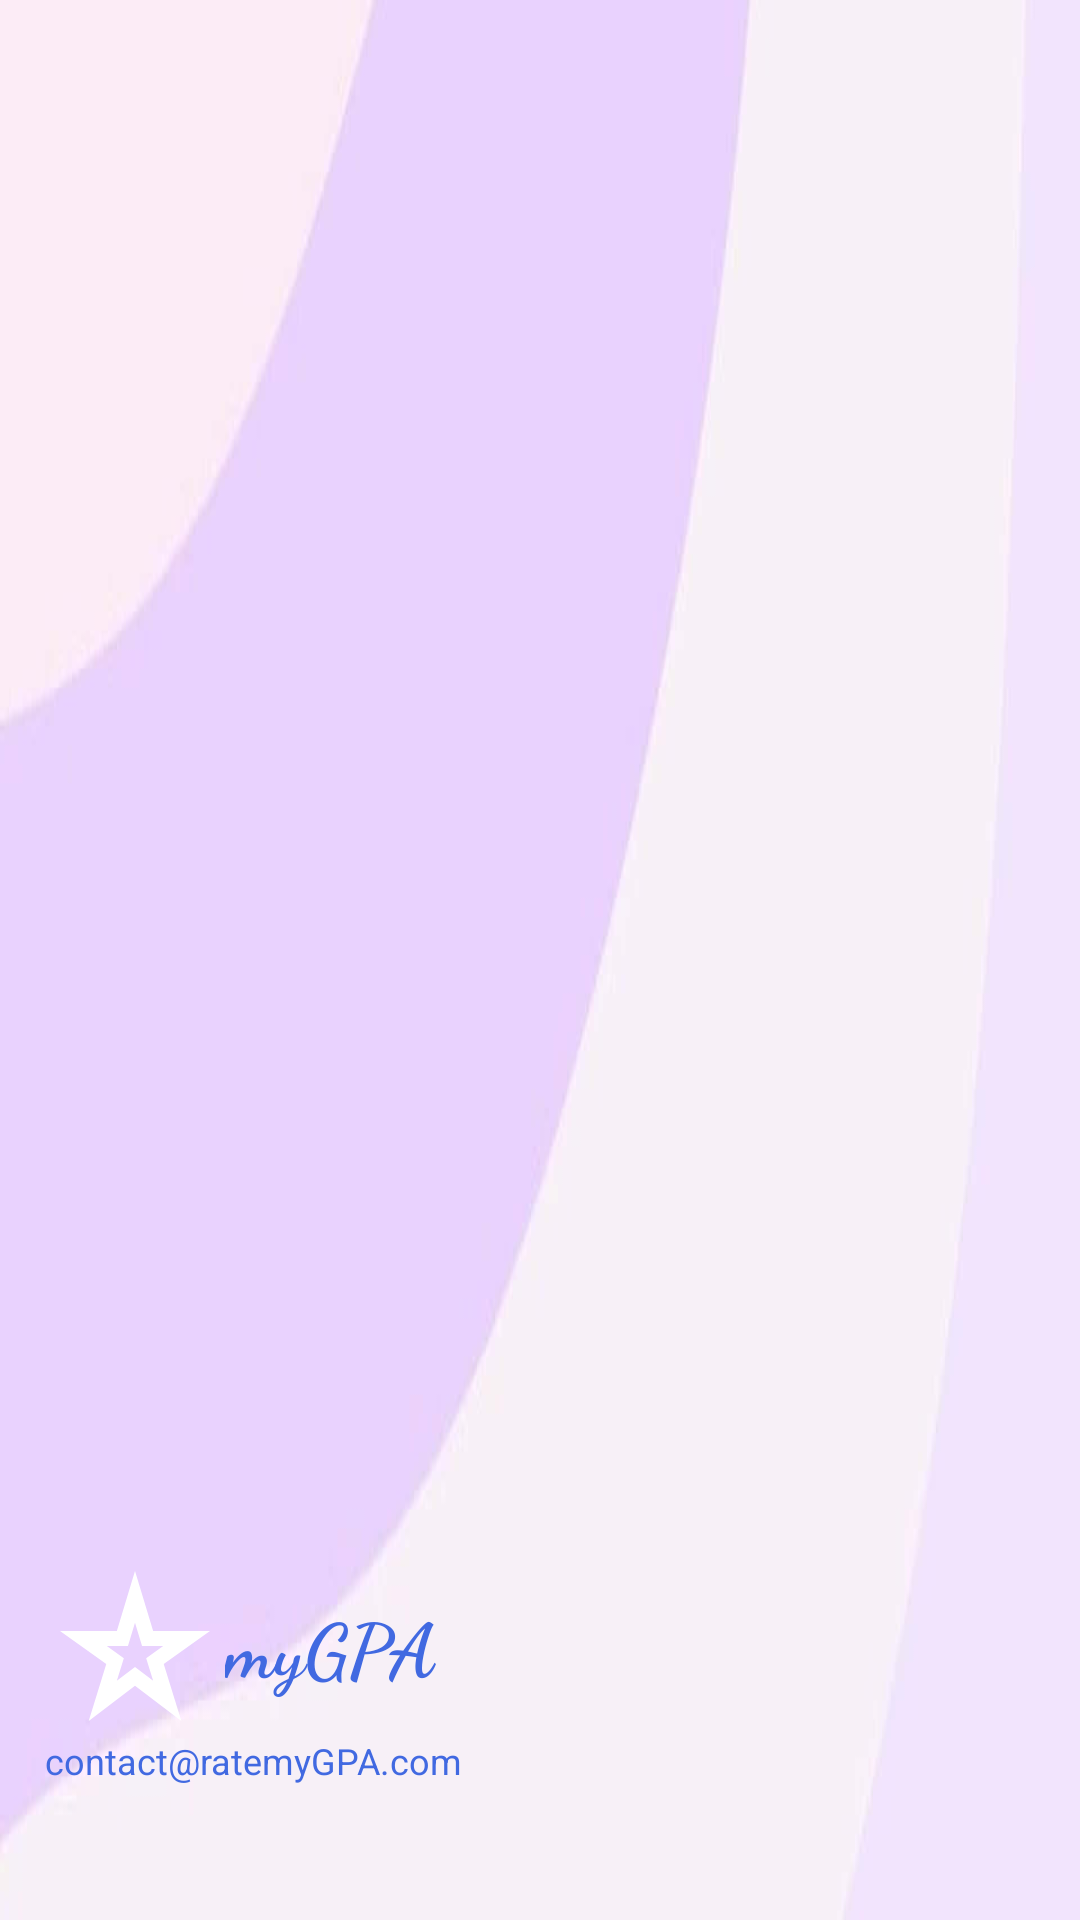

Icons on this 1080w x 1920h Android screen, each with its box as bbox(x1, y1, x2, y2):
star: bbox(61, 1573, 225, 1736)
